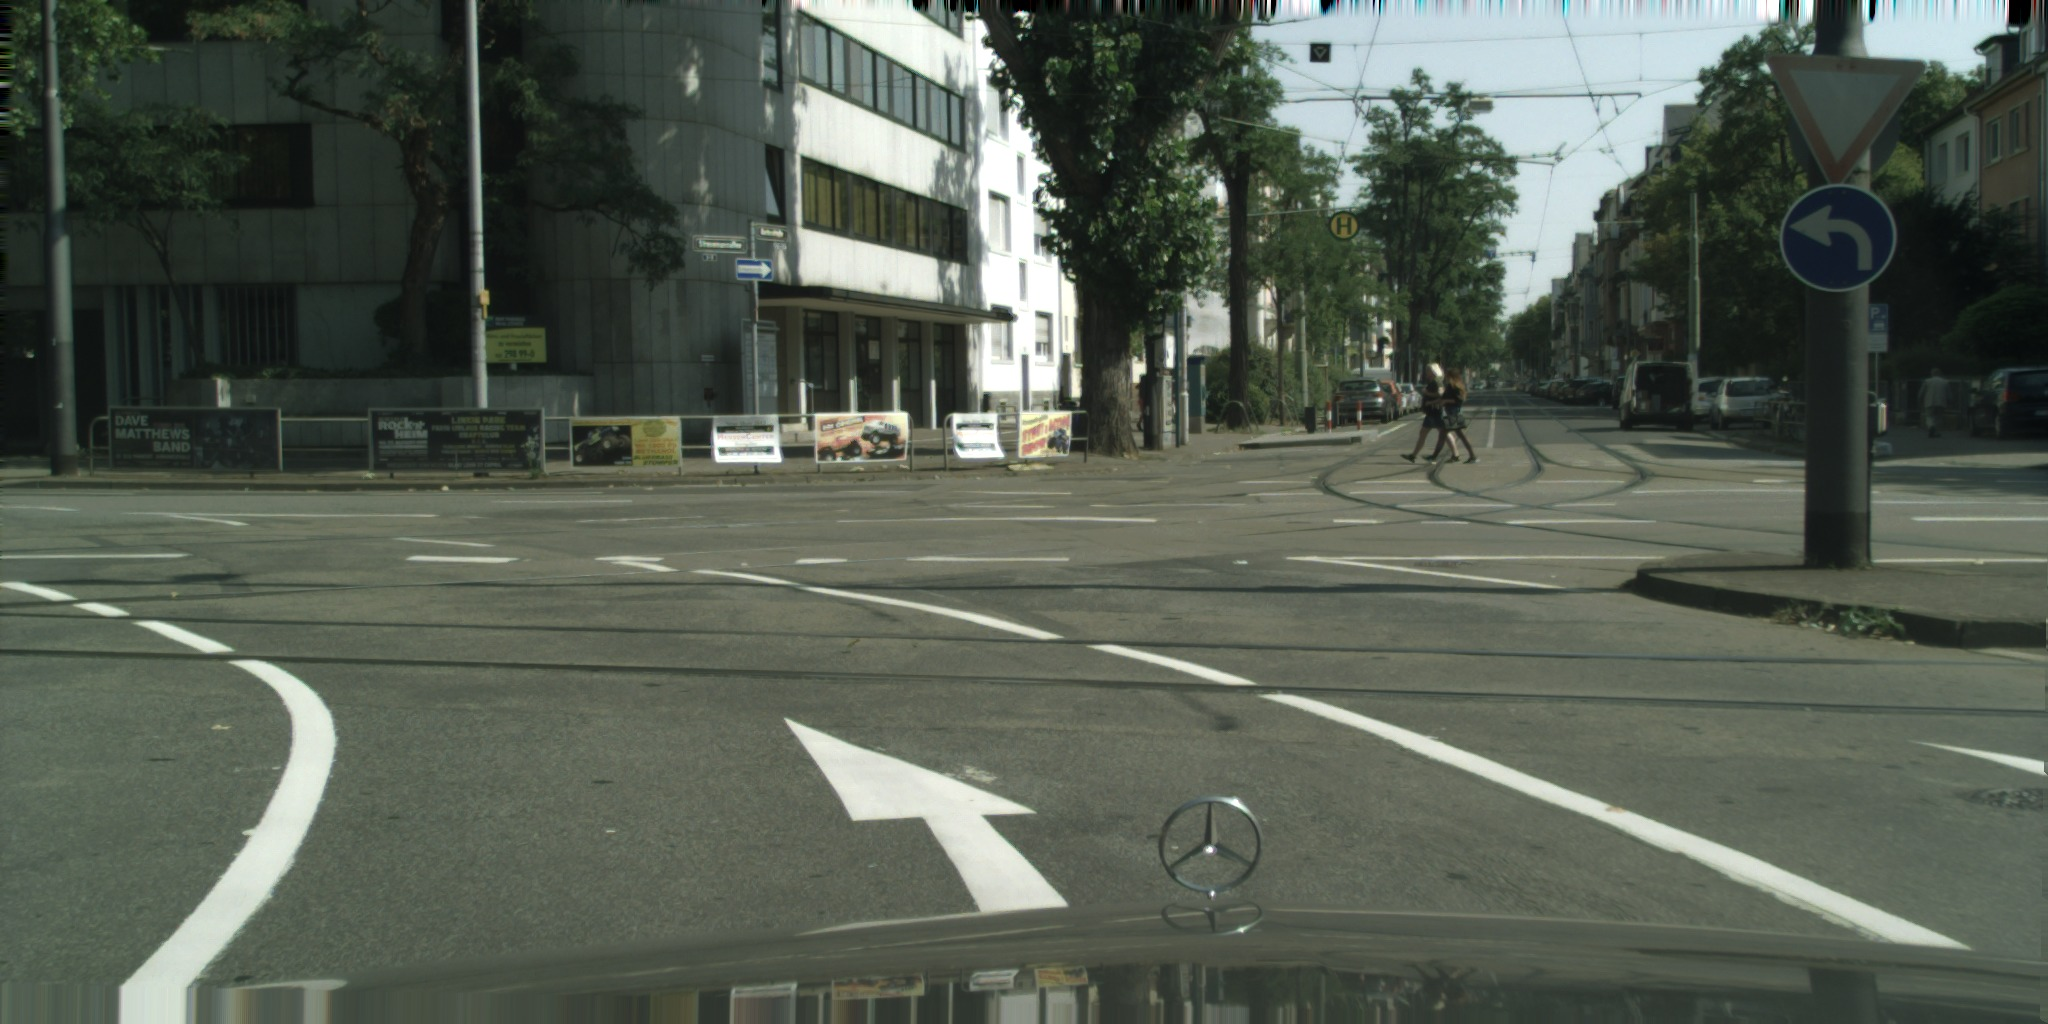car: (1968, 364, 2048, 440), (1618, 361, 1695, 431), (1706, 376, 1781, 430), (1331, 379, 1395, 425), (1693, 376, 1738, 424), (1377, 379, 1405, 420), (1563, 378, 1602, 403), (1577, 381, 1616, 407), (1611, 376, 1629, 410)
person: (1399, 363, 1461, 464), (1422, 367, 1480, 465), (1917, 368, 1955, 438), (1135, 373, 1150, 433)
